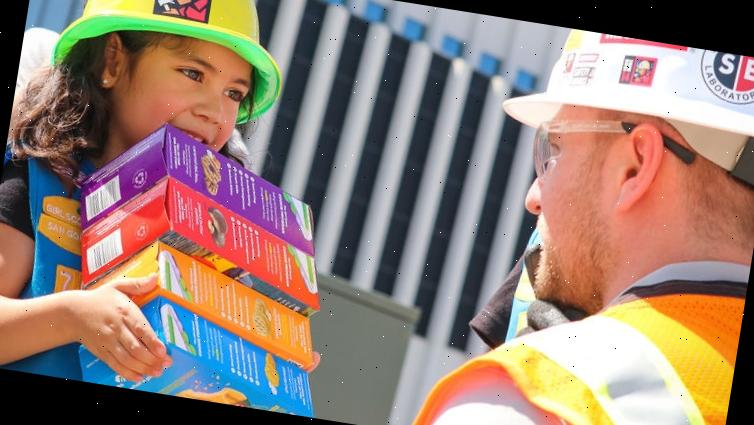helmet: (496, 19, 754, 161), (43, 0, 300, 115)
wear: (402, 272, 741, 425)
